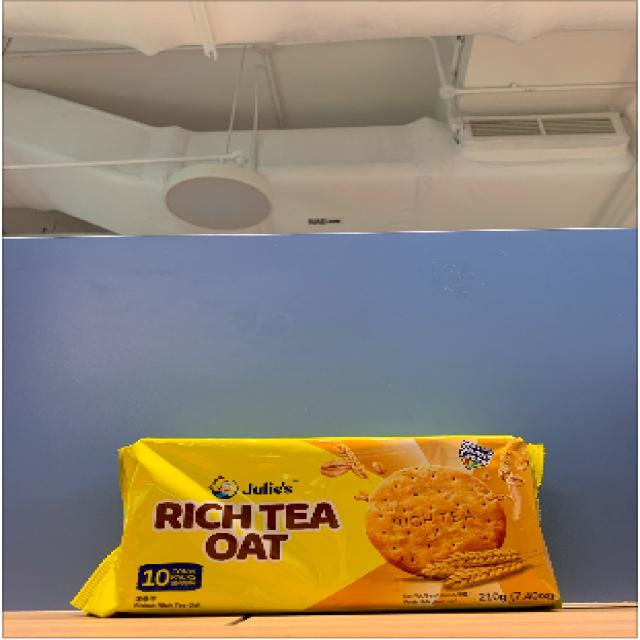object_name: (109, 442, 538, 606)
